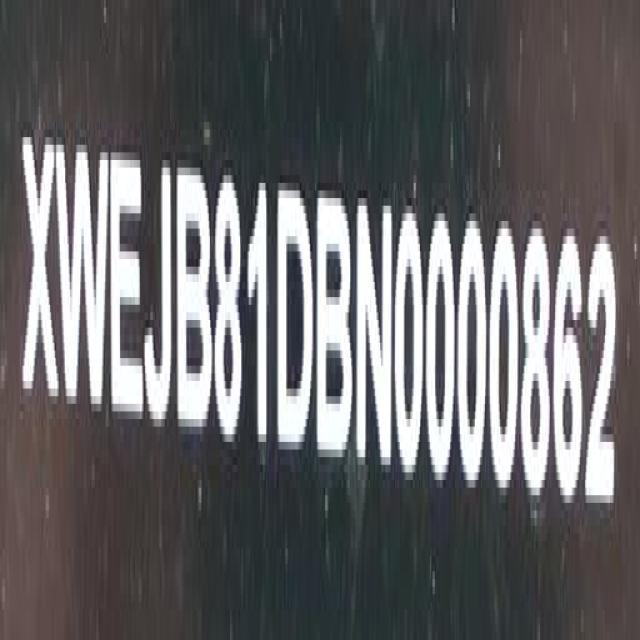0: (487, 215, 519, 502), (457, 209, 487, 508), (424, 200, 456, 477), (392, 220, 424, 474)
1: (244, 166, 270, 454)
2: (585, 223, 618, 505)
6: (554, 198, 584, 516)
8: (520, 209, 552, 499), (212, 172, 245, 443)
B: (313, 169, 354, 480), (171, 133, 212, 440)
D: (276, 170, 312, 454)
E: (108, 133, 145, 434)
J: (143, 150, 174, 432)
N: (354, 192, 393, 474)
W: (54, 127, 109, 418)
X: (21, 124, 59, 421)
